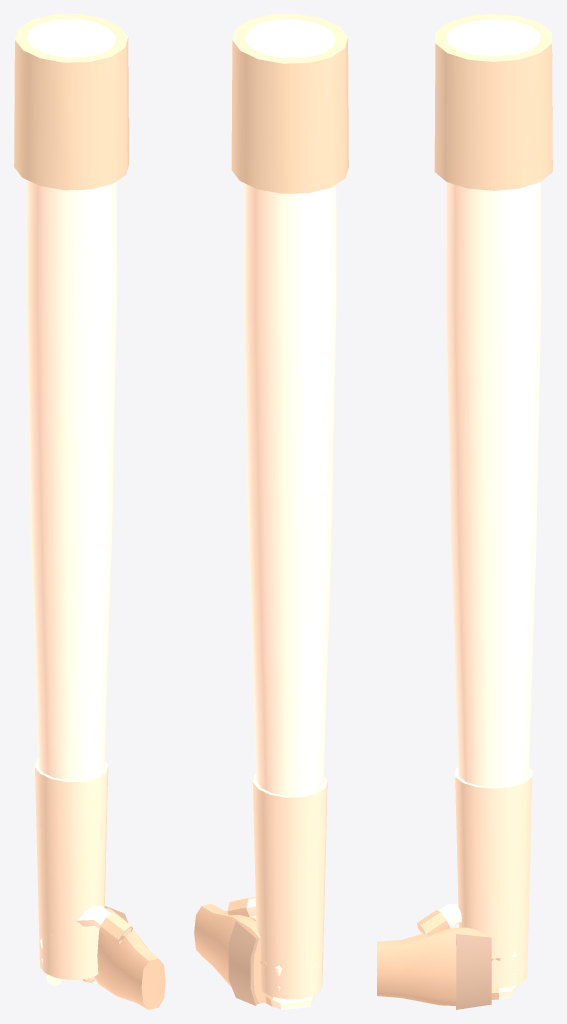
Rendered from rebel_fp.glb.
The picture shows the model from 3 angles, left to right: view 1: azimuth 30°, elevation 25°; view 2: azimuth 210°, elevation 25°; view 3: azimuth 270°, elevation 25°; orthographic projection. The views are drawn at different scales.
Parts seen in each view (by area): view 1: FP_Arm_L0, FP_Glove_L0; view 2: FP_Arm_L0, FP_Glove_L0; view 3: FP_Arm_L0, FP_Glove_L0.
Part boxes in pixels (bbox=[...]): FP_Arm_L0: bbox=[14, 14, 128, 979]; FP_Glove_L0: bbox=[40, 905, 165, 1009]; FP_Arm_L0: bbox=[231, 14, 348, 999]; FP_Glove_L0: bbox=[194, 896, 317, 1009]; FP_Arm_L0: bbox=[434, 14, 552, 988]; FP_Glove_L0: bbox=[377, 903, 518, 1009].
Size of the model in its own units: 0.1136 by 1.04 by 0.1733.
